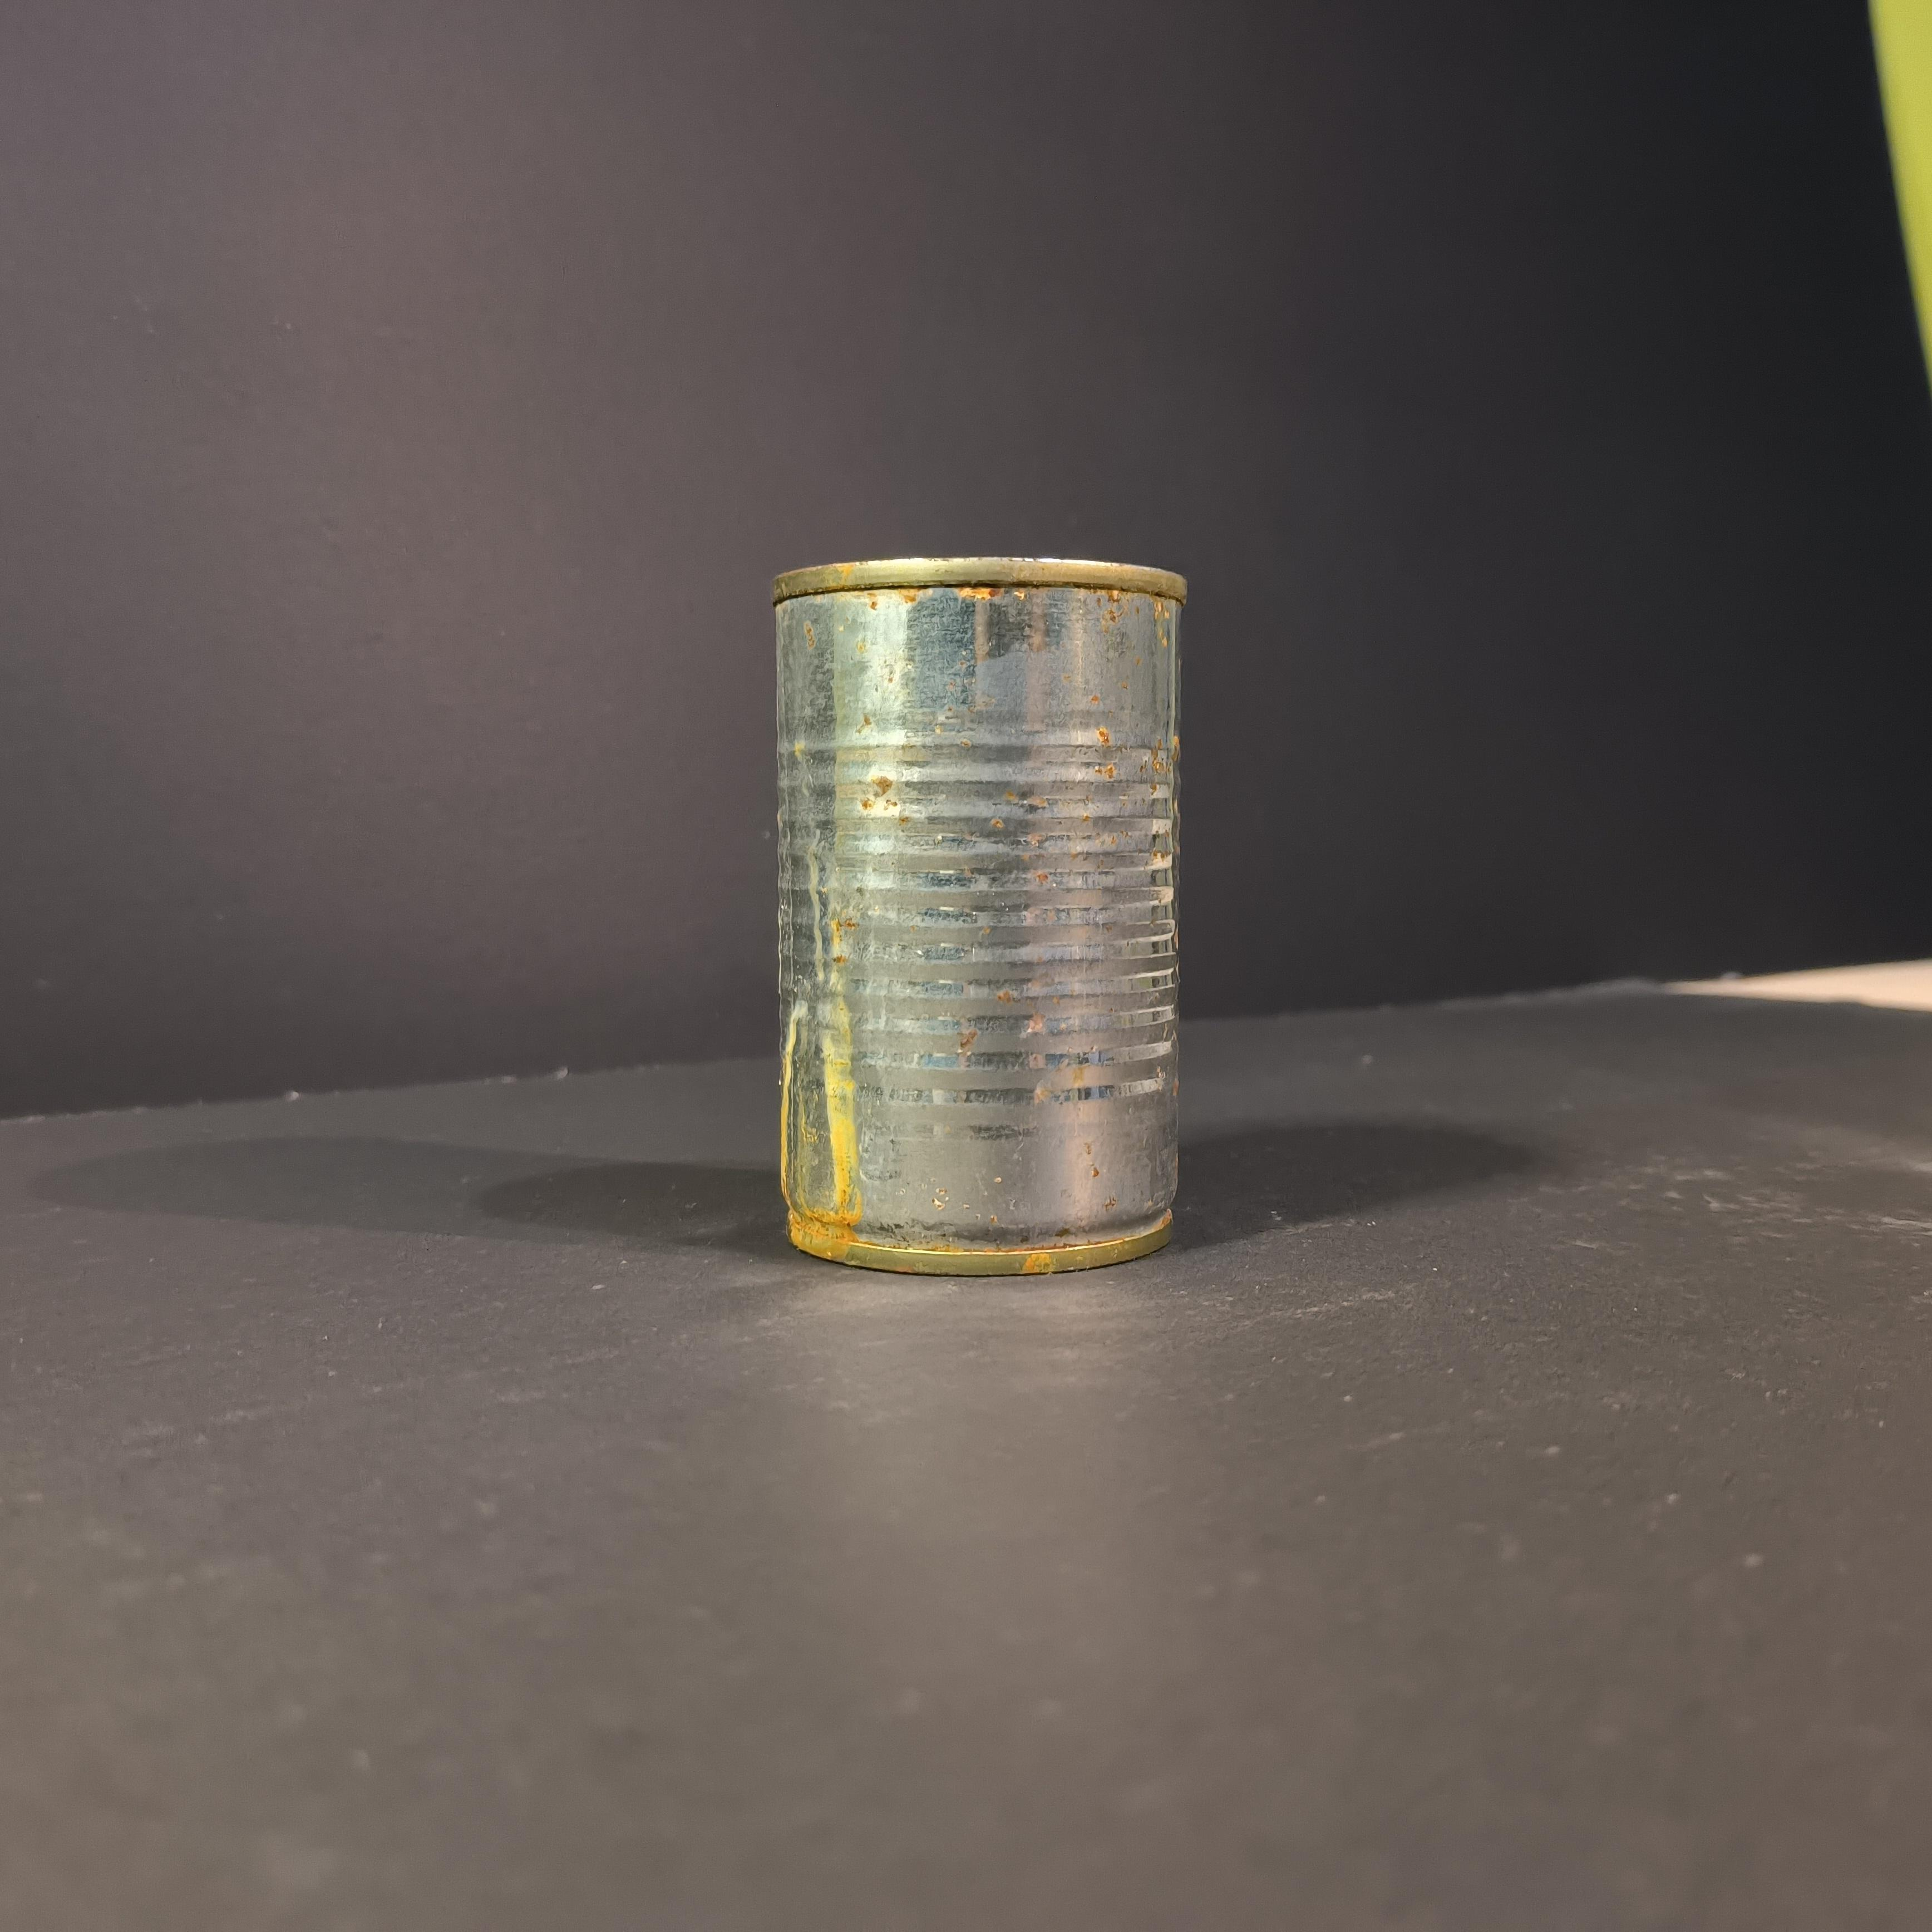Rusted: (748, 525, 1224, 1288)
